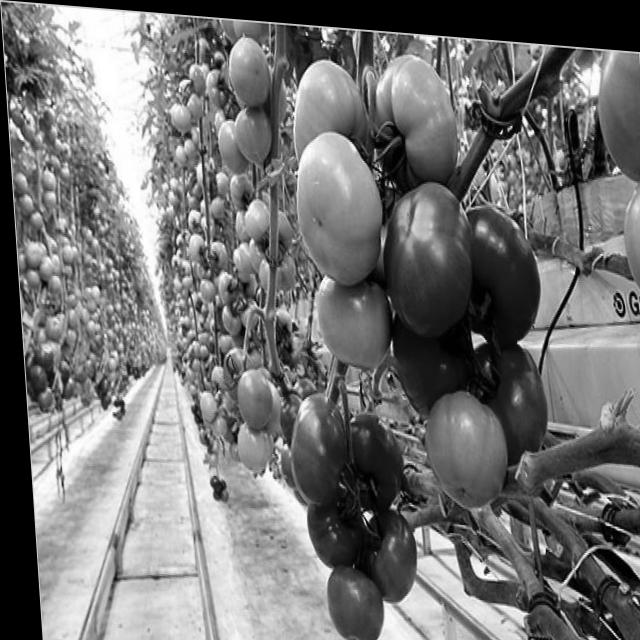kirmizi: (260, 393, 414, 638)
yesil: (155, 62, 276, 279), (286, 136, 382, 365)
